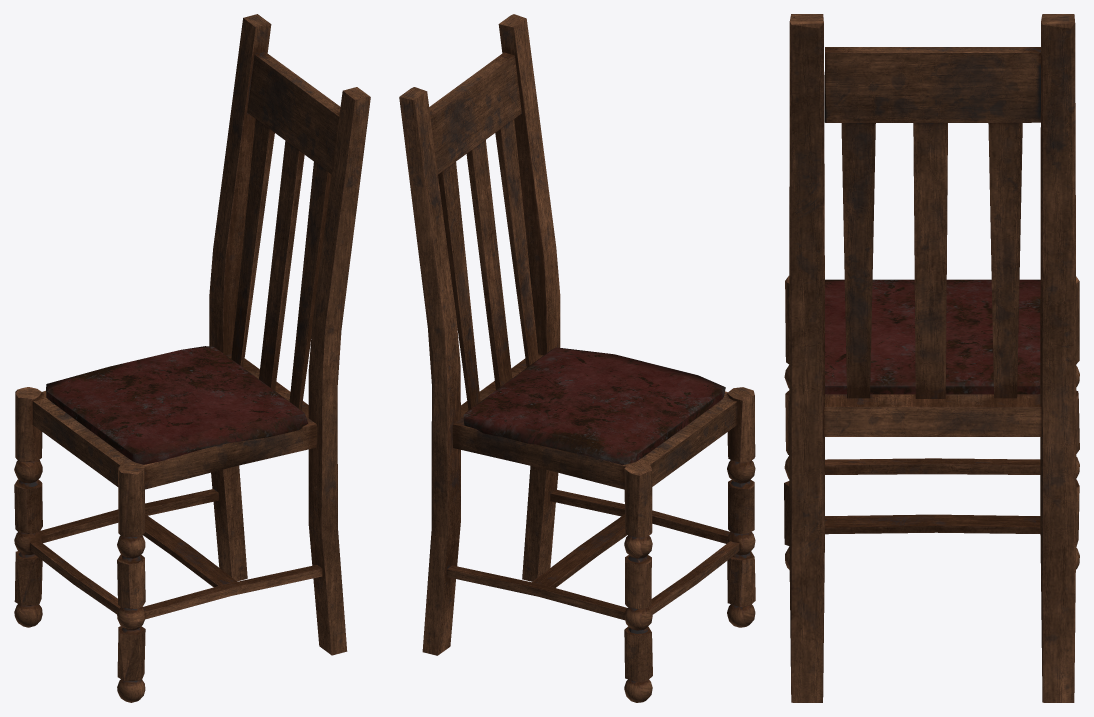
File: Oldchair.fbx
3 views of the same model, side by side, from view 1: azimuth 30°, elevation 25°; view 2: azimuth 150°, elevation 25°; view 3: azimuth 270°, elevation 25° (orthographic). The views are drawn at different scales.
Parts seen in each view (by area): view 1: Cube; view 2: Cube; view 3: Cube.
Part boxes in pixels (left/top/right/bottom): Cube: left=14, top=14, right=370, bottom=702; Cube: left=399, top=14, right=755, bottom=702; Cube: left=784, top=14, right=1079, bottom=702.
Bounding box in the file's own units: 20.16 × 42.85 × 16.49.
